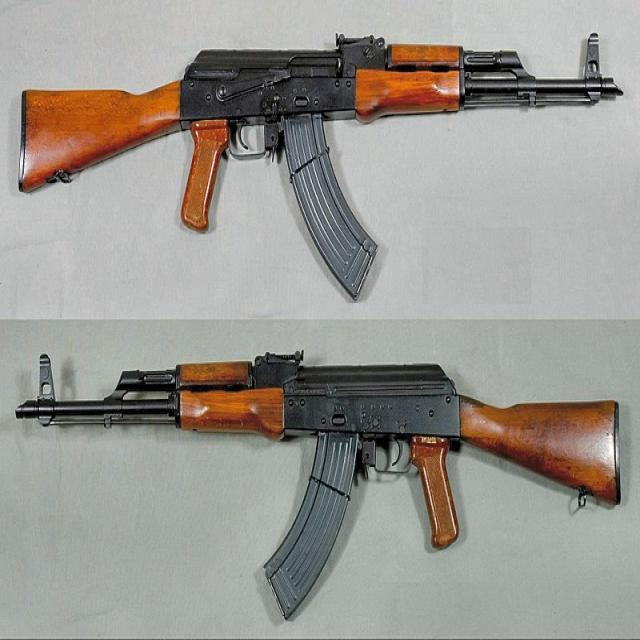Rifle: (18, 24, 628, 306), (14, 346, 626, 623)
